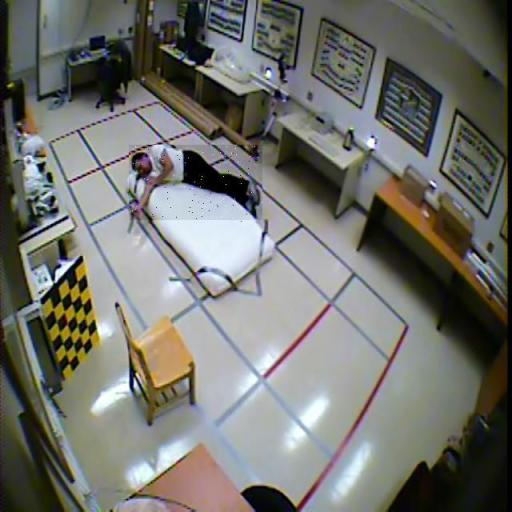Fall: (129, 146, 262, 223)
